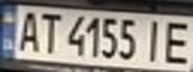1: (81, 14, 103, 58)
4: (63, 11, 87, 56)
5: (118, 16, 142, 61), (100, 15, 121, 60)
A: (12, 8, 42, 53)
E: (160, 17, 193, 65)
I: (139, 16, 169, 63)
T: (36, 9, 63, 54)
